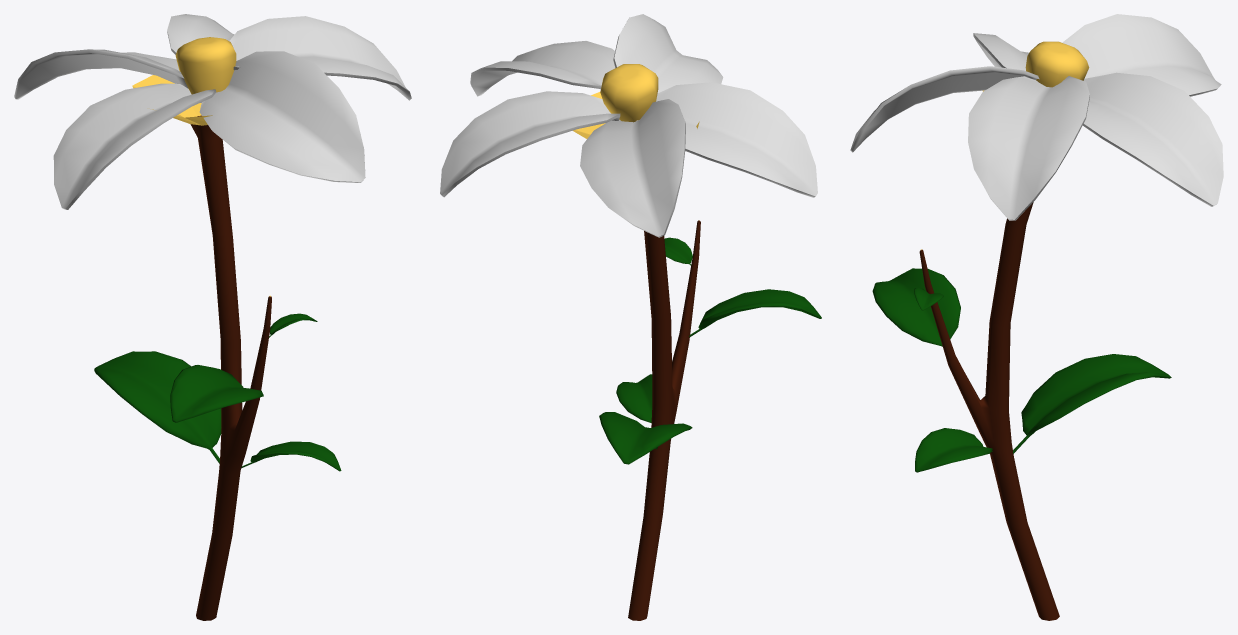
The model's file is Flower.FBX.
The picture shows the model from 3 angles, left to right: view 1: azimuth 30°, elevation 25°; view 2: azimuth 150°, elevation 25°; view 3: azimuth 270°, elevation 25°; orthographic projection. The views are drawn at different scales.
Visible parts, largest first — view 1: 对象088; view 2: 对象088; view 3: 对象088.
Boxes of the visible parts, bbox=[...] form: 对象088: bbox=[14, 14, 411, 620]; 对象088: bbox=[440, 14, 821, 620]; 对象088: bbox=[850, 14, 1223, 620].
Bounding box in the file's own units: 91.84 × 144 × 84.59.
